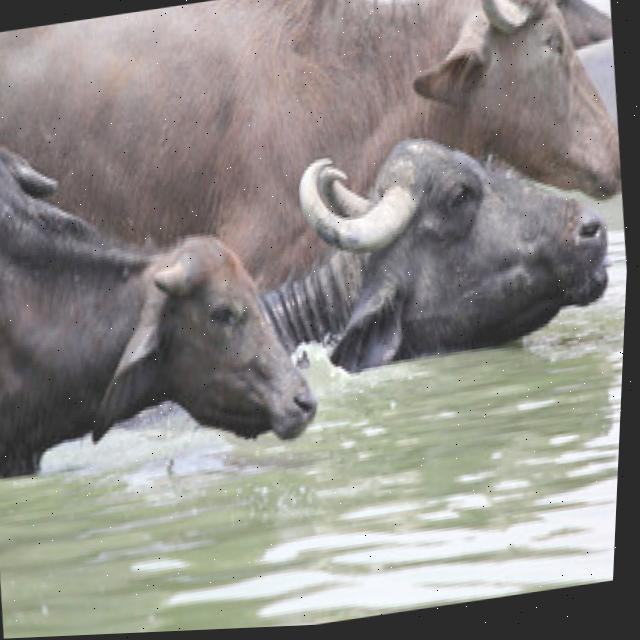Buffalo: (256, 103, 626, 389)
